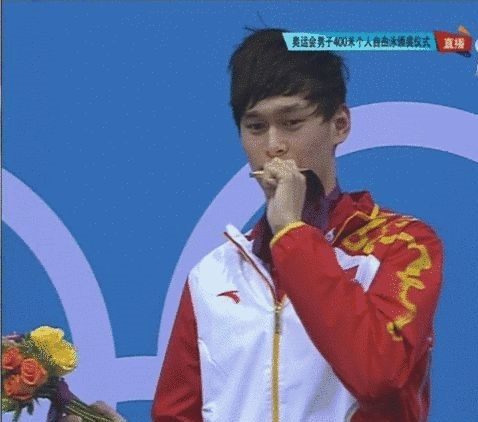face: (243, 86, 323, 197)
